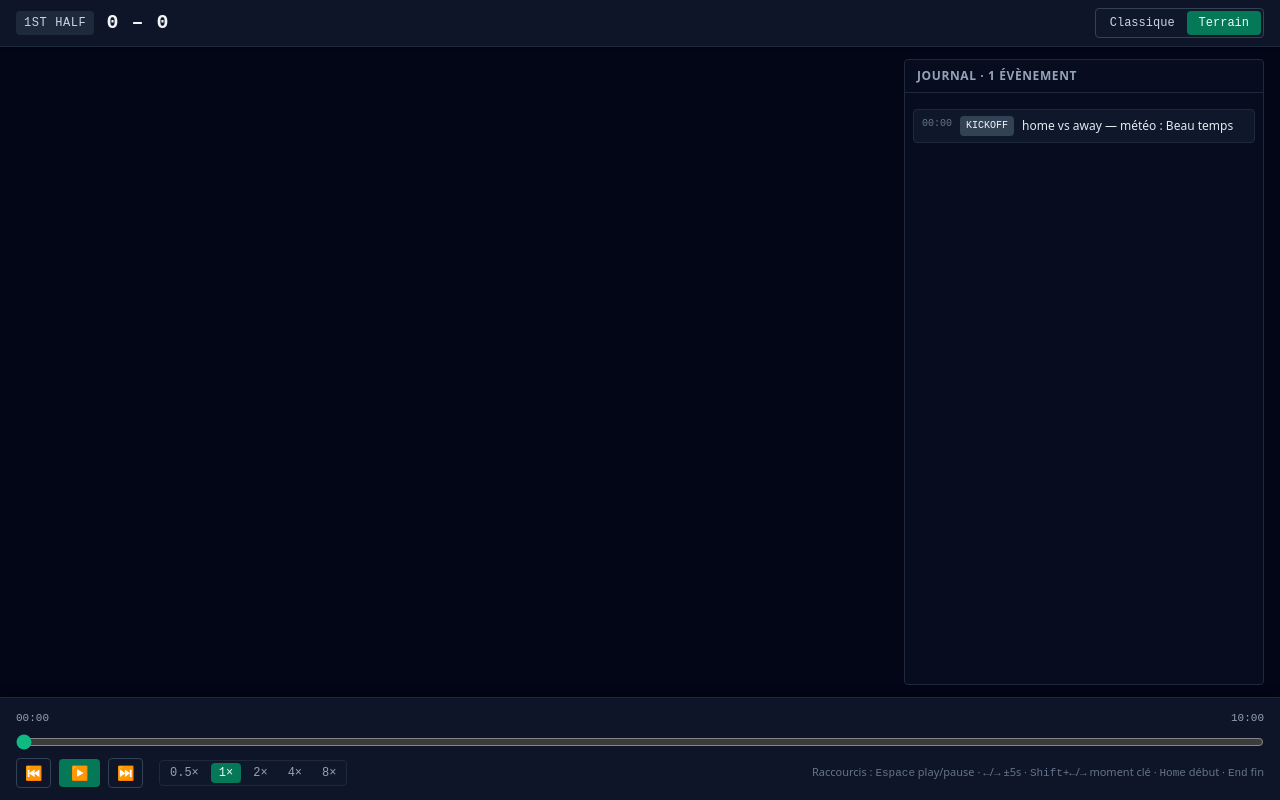
Test: <MatchReplayPlayer> — vue terrain par défaut + résolution noms › retombe sur l'ID brut si le playerId n'est pas dans le roster
Set the slider with test id "replay-scrub" to "60000". click: (147, 742)
box: [16,734,1264,750]
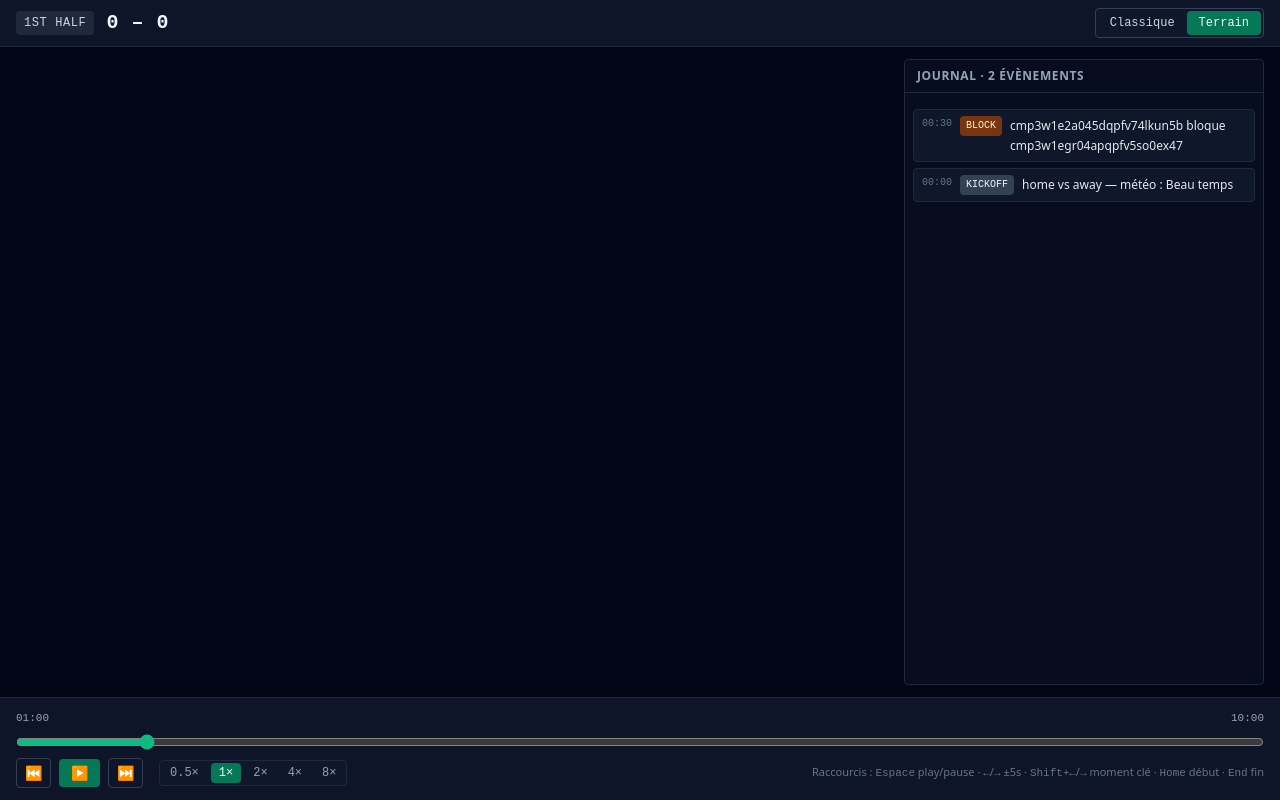
Now the list with test id "replay-event-feed" shows "cmp3w1e2a045dqpfv74lkun5b", box [1010,117,1226,154]
